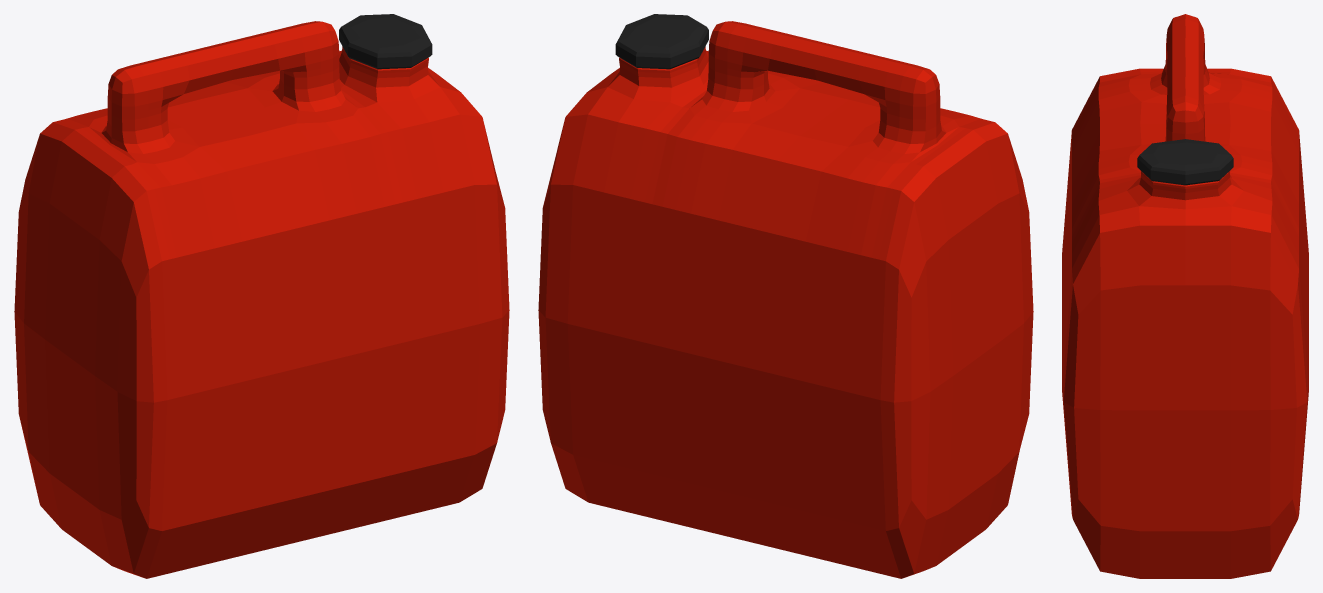
Rendered from redJerrycan.fbx.
The picture shows the model from 3 angles, left to right: view 1: azimuth 30°, elevation 25°; view 2: azimuth 150°, elevation 25°; view 3: azimuth 270°, elevation 25°; orthographic projection. The views are drawn at different scales.
Parts seen in each view (by area): view 1: redJerrycan; view 2: redJerrycan; view 3: redJerrycan.
Part boxes in pixels (box(x1,y1,x2,y2)): redJerrycan: box(14, 14, 509, 578); redJerrycan: box(538, 14, 1033, 578); redJerrycan: box(1062, 14, 1308, 578).
Bounding box in the file's own units: 29.43 × 35 × 17.99.
